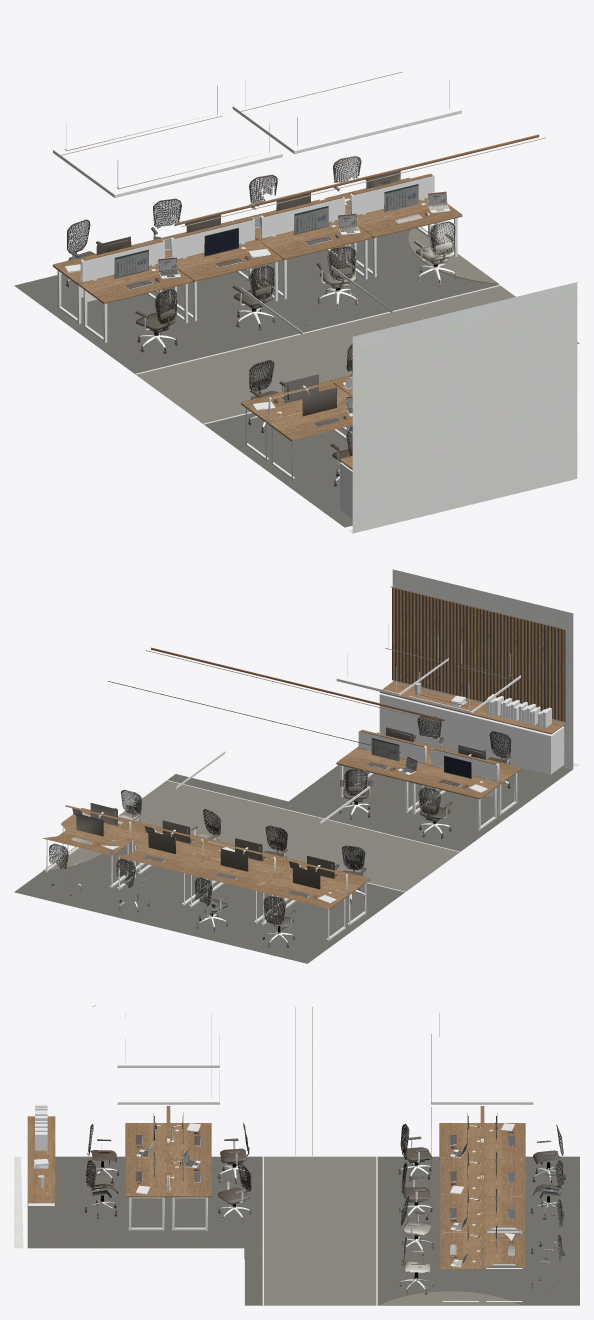
The model's file is z-open_e-lite.light.d056a4e0.glb.
The picture shows the model from 3 angles, top to bottom: view 1: azimuth 30°, elevation 25°; view 2: azimuth 150°, elevation 25°; view 3: azimuth 270°, elevation 25°; orthographic projection. The views are drawn at different scales.
Parts seen in each view (by area): view 1: open_e_plaster, open_e_carpet, open_e_oak, open_e_fx, open_e_satin, open_e_emit, open_e_metal_lit; view 2: open_e_carpet, open_e_proxy_slat, open_e_oak, open_e_satin, open_e_fx, open_e_plaster, open_e_emit, open_e_metal_lit; view 3: open_e_carpet, open_e_oak, open_e_fx, open_e_satin, open_e_metal_lit, open_e_plaster.
Boxes of the visible parts, <box> form: open_e_plaster: <box>349,282,577,533</box>; open_e_carpet: <box>14,204,579,527</box>; open_e_oak: <box>52,134,539,469</box>; open_e_fx: <box>66,155,456,486</box>; open_e_satin: <box>53,79,500,519</box>; open_e_emit: <box>61,72,545,408</box>; open_e_metal_lit: <box>64,191,579,480</box>; open_e_carpet: <box>14,765,572,963</box>; open_e_proxy_slat: <box>392,587,565,721</box>; open_e_oak: <box>42,647,564,909</box>; open_e_satin: <box>45,624,564,940</box>; open_e_fx: <box>49,715,511,947</box>; open_e_plaster: <box>392,569,579,768</box>; open_e_emit: <box>146,586,562,817</box>; open_e_metal_lit: <box>74,743,508,942</box>; open_e_carpet: <box>27,1156,579,1305</box>; open_e_oak: <box>27,1007,525,1269</box>; open_e_fx: <box>85,1113,565,1294</box>; open_e_satin: <box>28,1005,533,1305</box>; open_e_metal_lit: <box>92,1123,560,1305</box>; open_e_plaster: <box>14,1156,23,1248</box>.
Bounding box in the file's own units: 6.5 × 3.35 × 10.45.
Materials: 9 (6 with a texture image).
